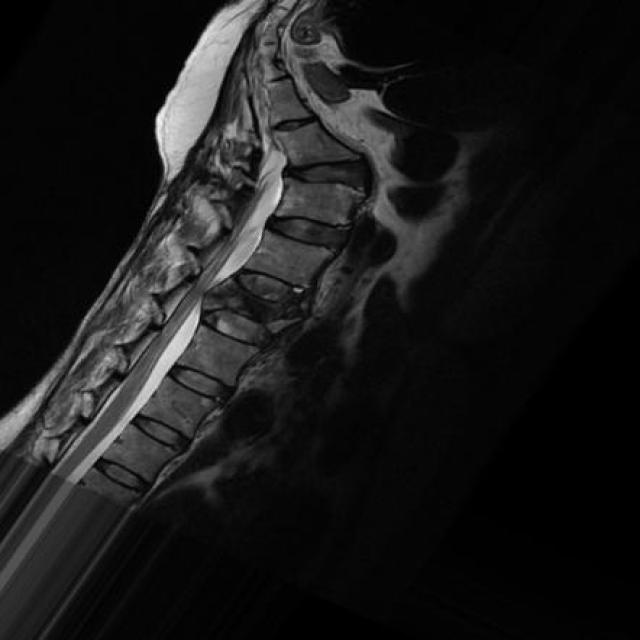Comminuted: (200, 258, 312, 351)
